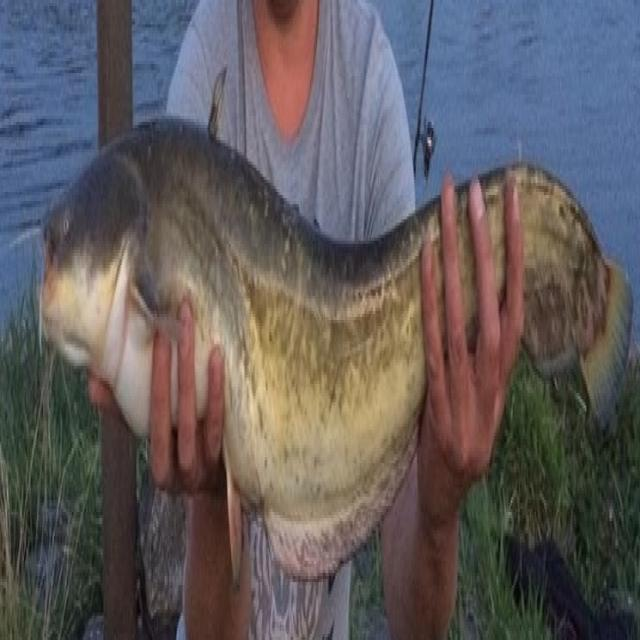Catfish: (24, 126, 630, 598)
